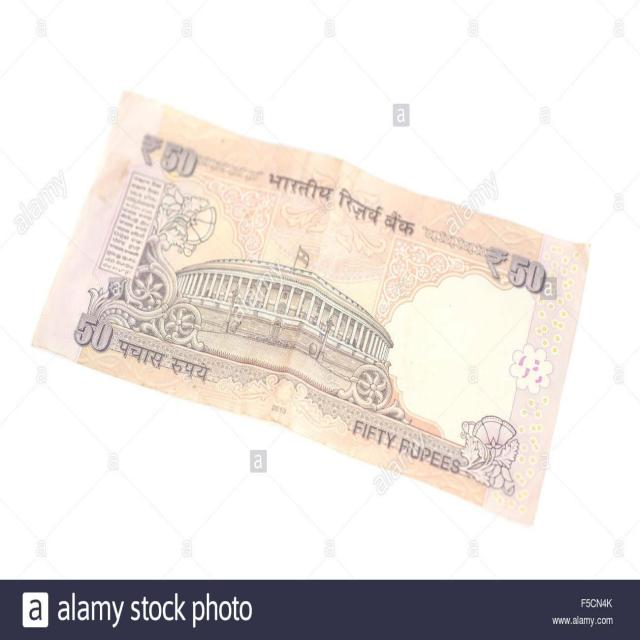50IndianRupees: (33, 96, 589, 529)
